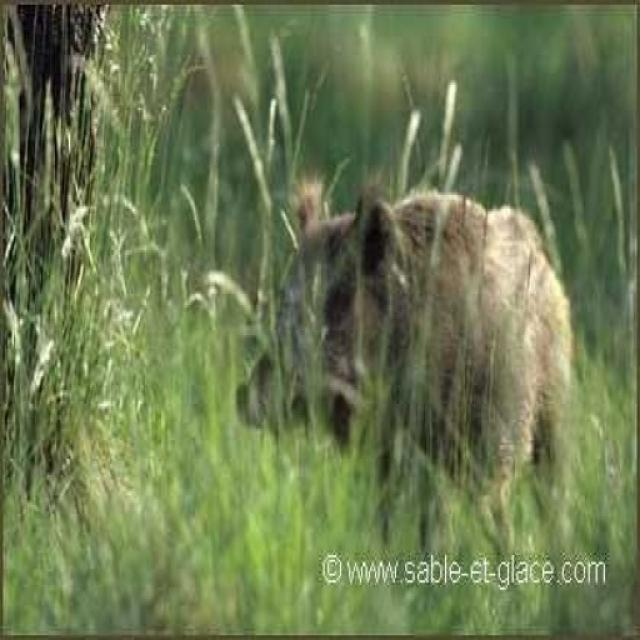pig: (217, 183, 578, 568)
